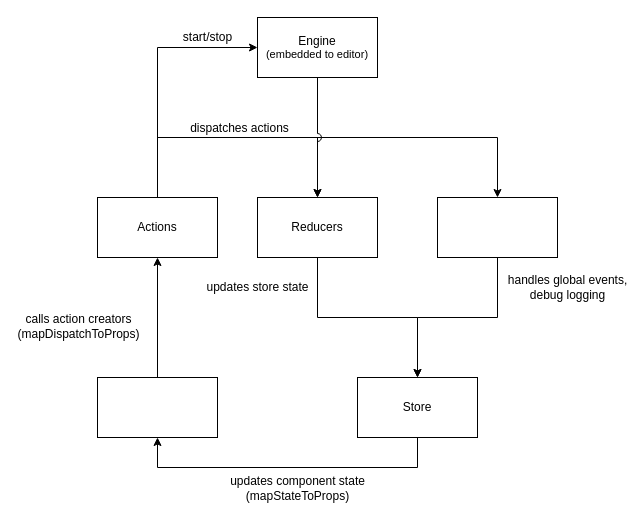
This 644x520 diagram has some shape labels left out. The shapes that lost their labels are listed below. From the top down, each one's centre as x and y in pixels, then its label:
At [497,227]: "Middleware".
At [157,407]: "React Components".
